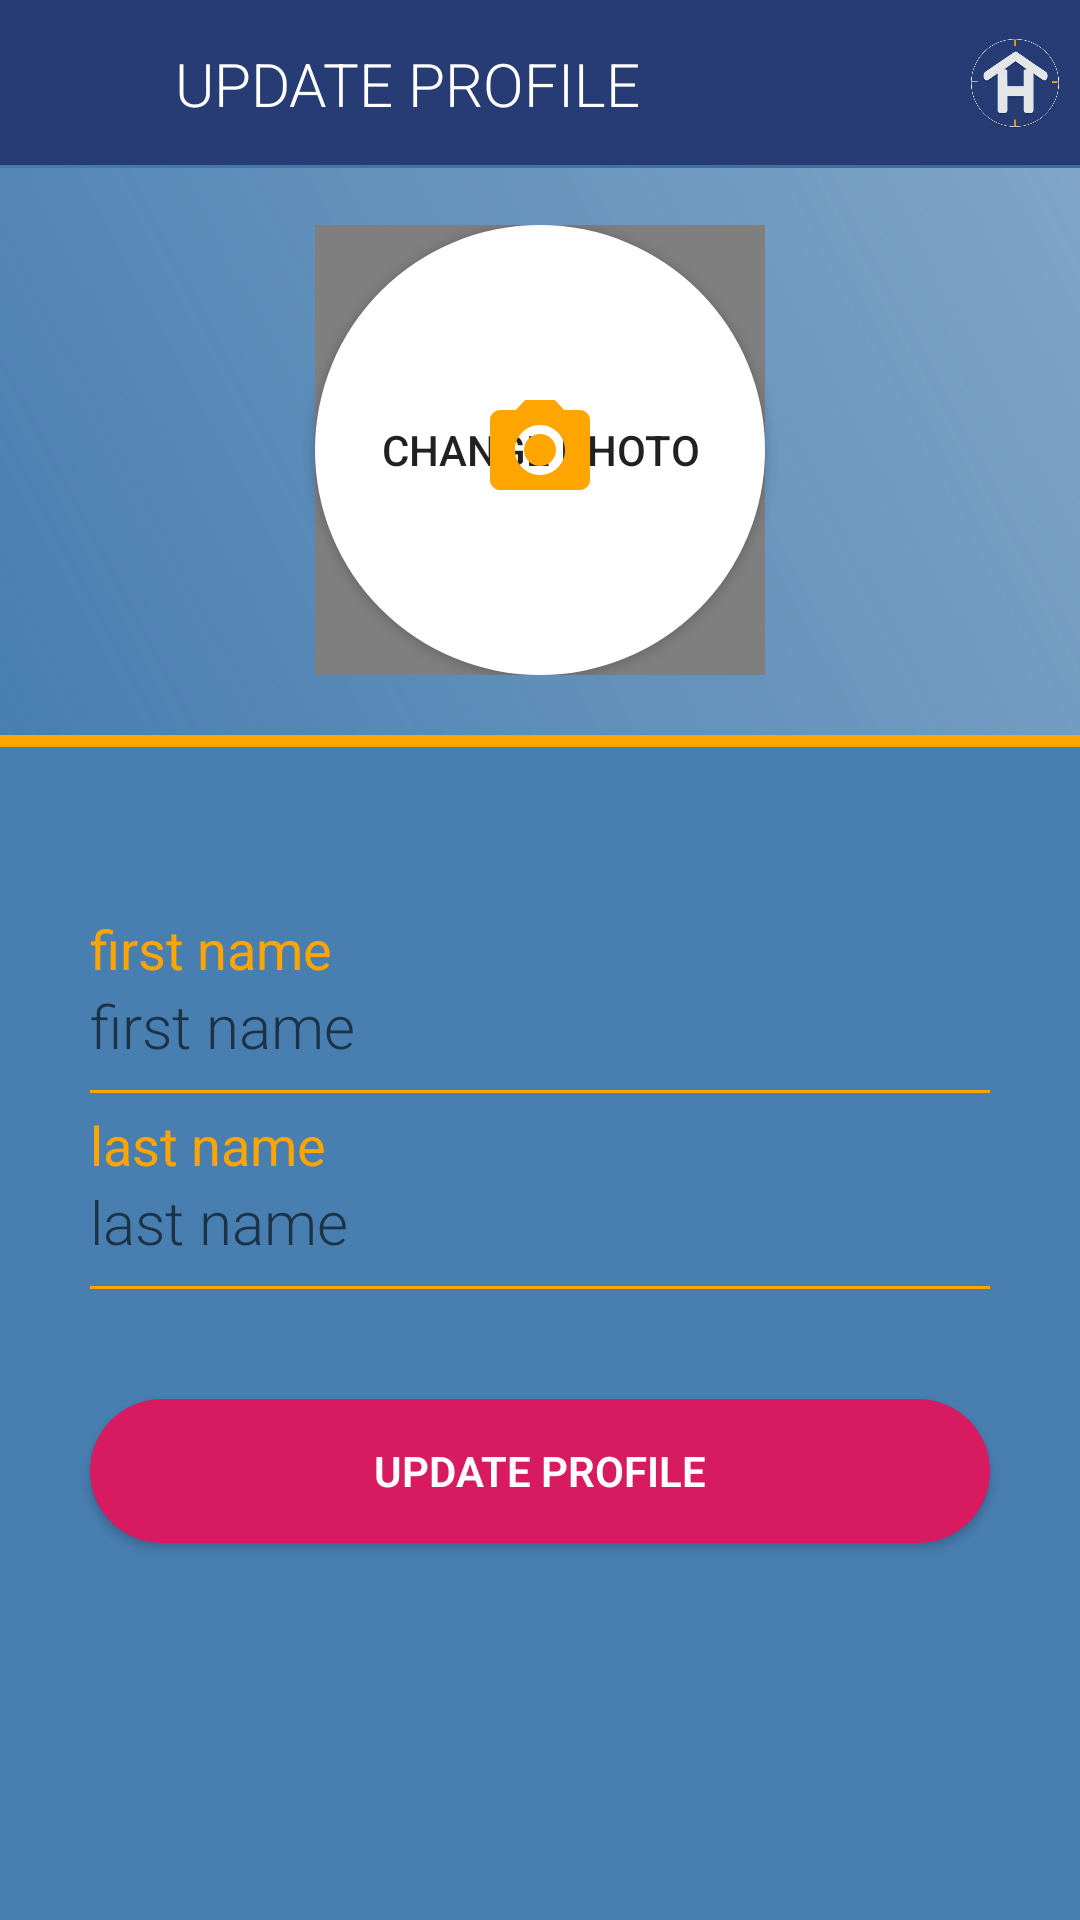

Point at icon controls on the screen. Image size 1080*1920, points as [x,y].
photo camera: [540,445]
